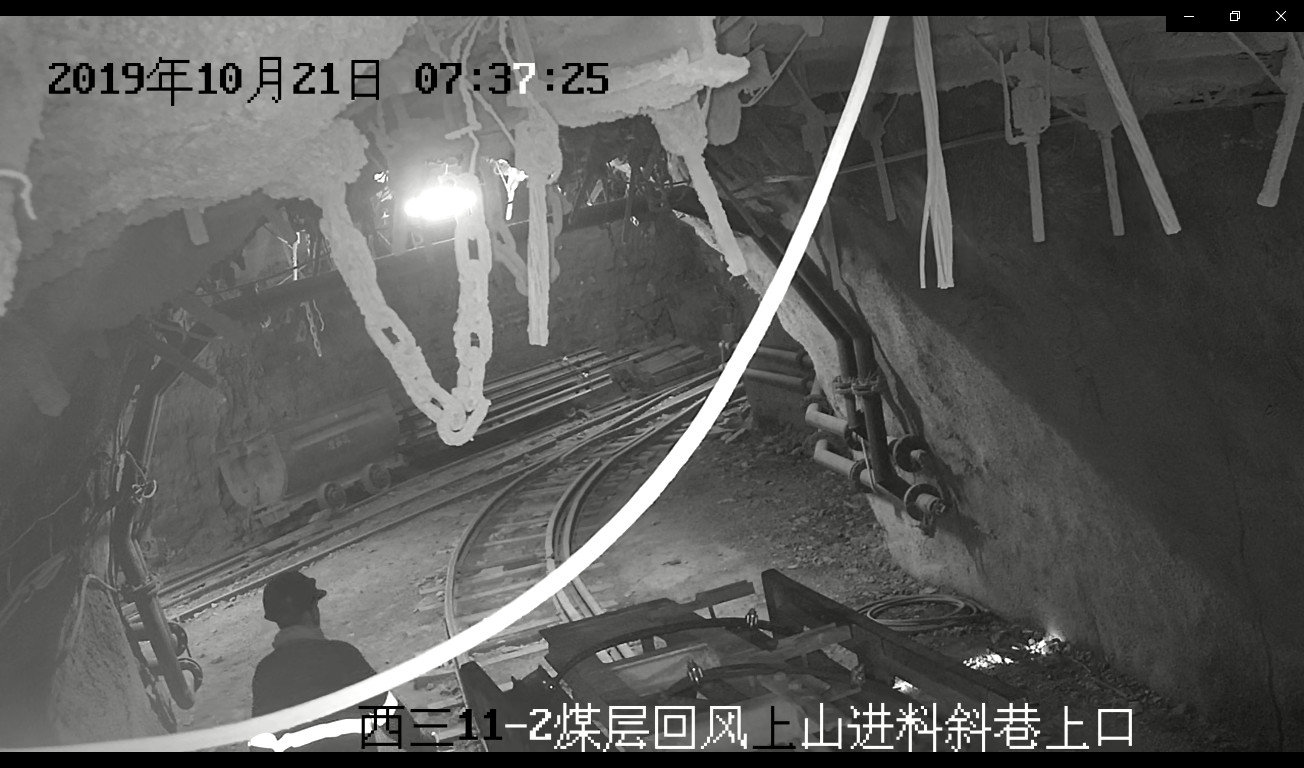helmet: (263, 570, 326, 620)
